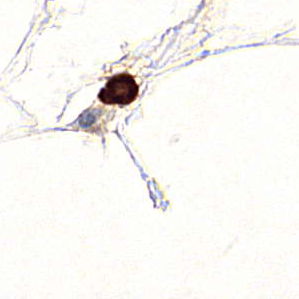Lymphocyte: (99, 73, 141, 106)
